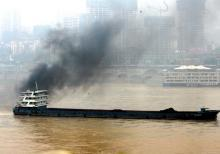smoke: (19, 9, 126, 89)
